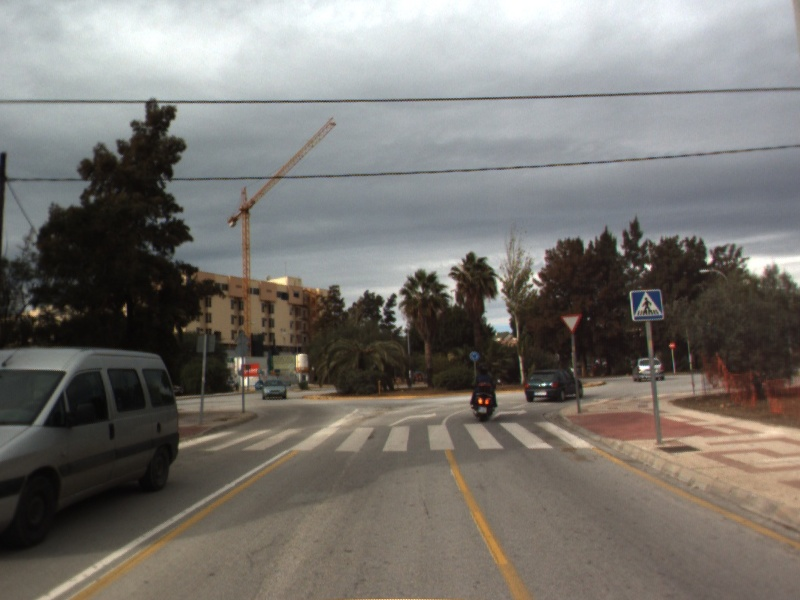RIGHT: (386, 411, 438, 428), (490, 407, 529, 420)
